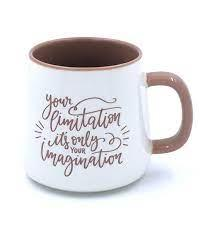Mug: (16, 28, 193, 207)
